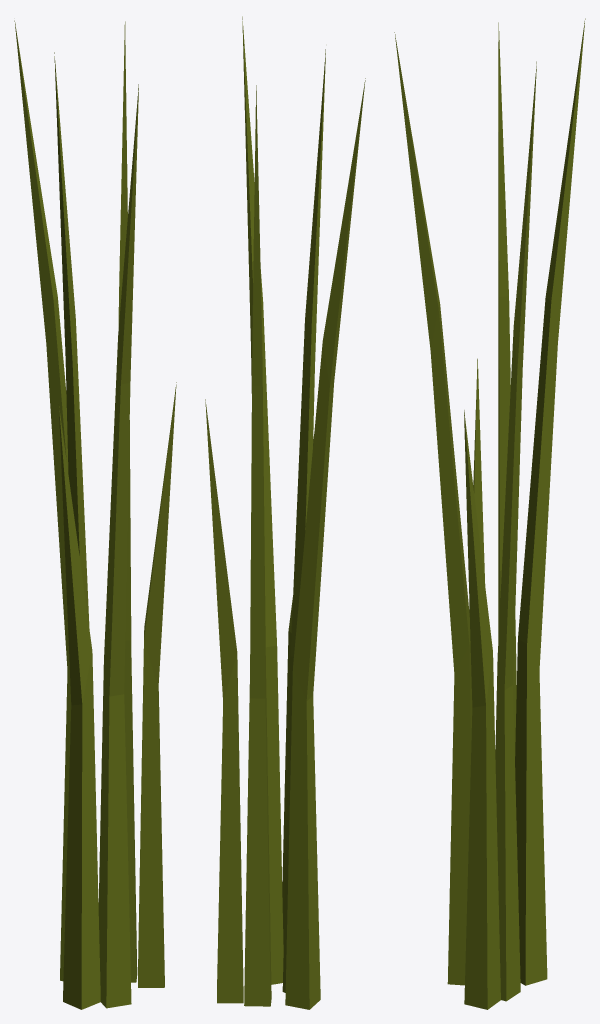
Rendered from High Grass_1.fbx.
3 views of the same model, side by side, from view 1: azimuth 30°, elevation 25°; view 2: azimuth 210°, elevation 25°; view 3: azimuth 270°, elevation 25° (orthographic).
Parts seen in each view (by area): view 1: High Grass_1; view 2: High Grass_1; view 3: High Grass_1.
Part boxes in pixels (x1,y1,x2,y2): High Grass_1: (14, 20, 176, 1009); High Grass_1: (205, 16, 365, 1009); High Grass_1: (394, 18, 585, 1009).
Bounding box in the file's own units: 0.3025 × 2.47 × 0.4521.
